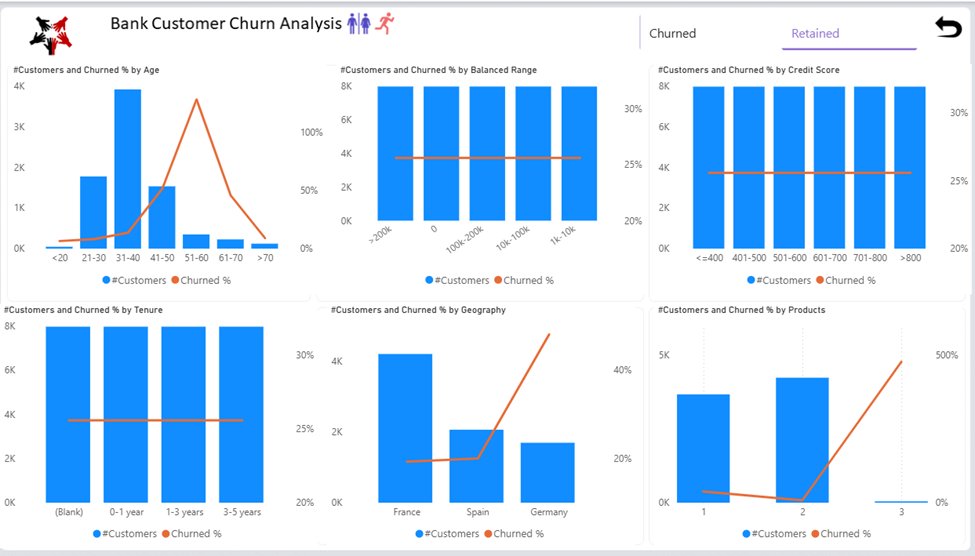

The page's visual inventory and layout, read from the dashboard file:
{"tool":"powerbi","page":{"name":"All","canvas":[1280,720],"ordinal":1},"visuals":[{"type":"lineStackedColumnComboChart","fields":{"Category":["Age Range.Age range"],"Y":["_Metrics.#Customers"],"Y2":["_Metrics.Churned %"]},"box":[27.3,80.3,408.8,296.8],"z":0},{"type":"lineStackedColumnComboChart","fields":{"Category":["Balance Range.Balanced Range"],"Y":["_Metrics.#Customers"],"Y2":["_Metrics.Churned %"]},"box":[448.2,80.3,398.2,296.8],"z":1},{"type":"lineStackedColumnComboChart","fields":{"Category":["Credit score Range.Credit Score"],"Y":["_Metrics.#Customers"],"Y2":["_Metrics.Churned %"]},"box":[857,80.3,408.8,296.8],"z":2},{"type":"lineStackedColumnComboChart","fields":{"Category":["Tenure Range.Tenure Range"],"Y":["_Metrics.#Customers"],"Y2":["_Metrics.Churned %"]},"box":[15.1,389.2,408.8,315],"z":3},{"type":"lineStackedColumnComboChart","fields":{"Category":["Churn_Modelling.Geography"],"Y":["_Metrics.#Customers"],"Y2":["_Metrics.Churned %"]},"box":[436.1,389.2,396.7,315],"z":4},{"type":"lineStackedColumnComboChart","fields":{"Category":["Churn_Modelling.NumOfProducts"],"Y":["_Metrics.#Customers"],"Y2":["_Metrics.Churned %"]},"box":[857,389.2,396.7,315],"z":5},{"type":"advancedSlicerVisual","fields":{"Values":["Churn_Modelling.Exited"]},"box":[832.8,10.6,369.5,57.5],"z":6},{"type":"actionButton","box":[1143.2,10.6,116.6,39.4],"z":7}]}

Visuals, with their boxes in screenshot pixels (x1, y1, x2, y2), scaled from the page's 1280x720 canvas onto the 975x556 screenshot:
lineStackedColumnComboChart - Age Range.Age range x _Metrics.#Customers: (x1=21, y1=62, x2=332, y2=291)
lineStackedColumnComboChart - Balance Range.Balanced Range x _Metrics.#Customers: (x1=341, y1=62, x2=645, y2=291)
lineStackedColumnComboChart - Credit score Range.Credit Score x _Metrics.#Customers: (x1=653, y1=62, x2=964, y2=291)
lineStackedColumnComboChart - Tenure Range.Tenure Range x _Metrics.#Customers: (x1=12, y1=301, x2=323, y2=544)
lineStackedColumnComboChart - Churn_Modelling.Geography x _Metrics.#Customers: (x1=332, y1=301, x2=634, y2=544)
lineStackedColumnComboChart - Churn_Modelling.NumOfProducts x _Metrics.#Customers: (x1=653, y1=301, x2=955, y2=544)
advancedSlicerVisual - Churn_Modelling.Exited: (x1=634, y1=8, x2=916, y2=53)
actionButton: (x1=871, y1=8, x2=960, y2=39)
